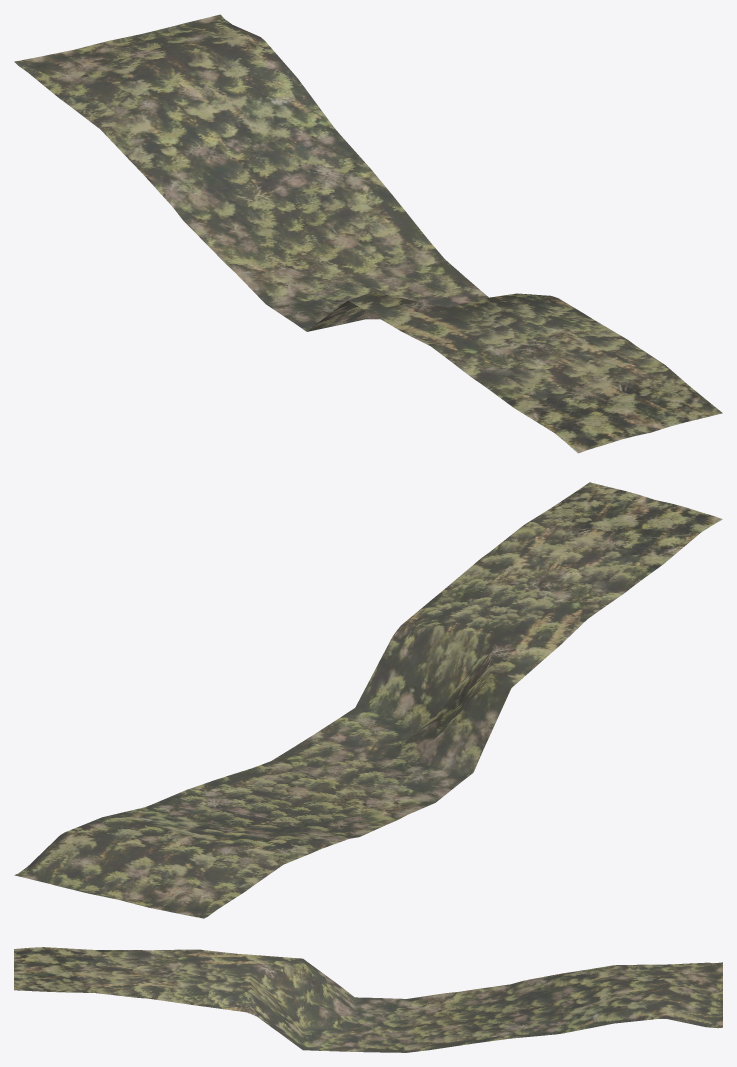
Rendered from CM_Terrain_24493940_6814060.fbx.
3 renders of one model, top to bottom at view 1: azimuth 30°, elevation 25°; view 2: azimuth 150°, elevation 25°; view 3: azimuth 270°, elevation 25°, orthographic. The views are drawn at different scales.
Visible parts, largest first — view 1: CM_Terrain_24493940_6814060_LOD0; view 2: CM_Terrain_24493940_6814060_LOD0; view 3: CM_Terrain_24493940_6814060_LOD0.
Boxes of the visible parts, x1,y1,x2,y2 form: CM_Terrain_24493940_6814060_LOD0: (14, 14, 722, 453); CM_Terrain_24493940_6814060_LOD0: (14, 482, 722, 918); CM_Terrain_24493940_6814060_LOD0: (14, 947, 722, 1052).
Size of what is drawn, in the model's own units: 43.3 by 16.9 by 205.
